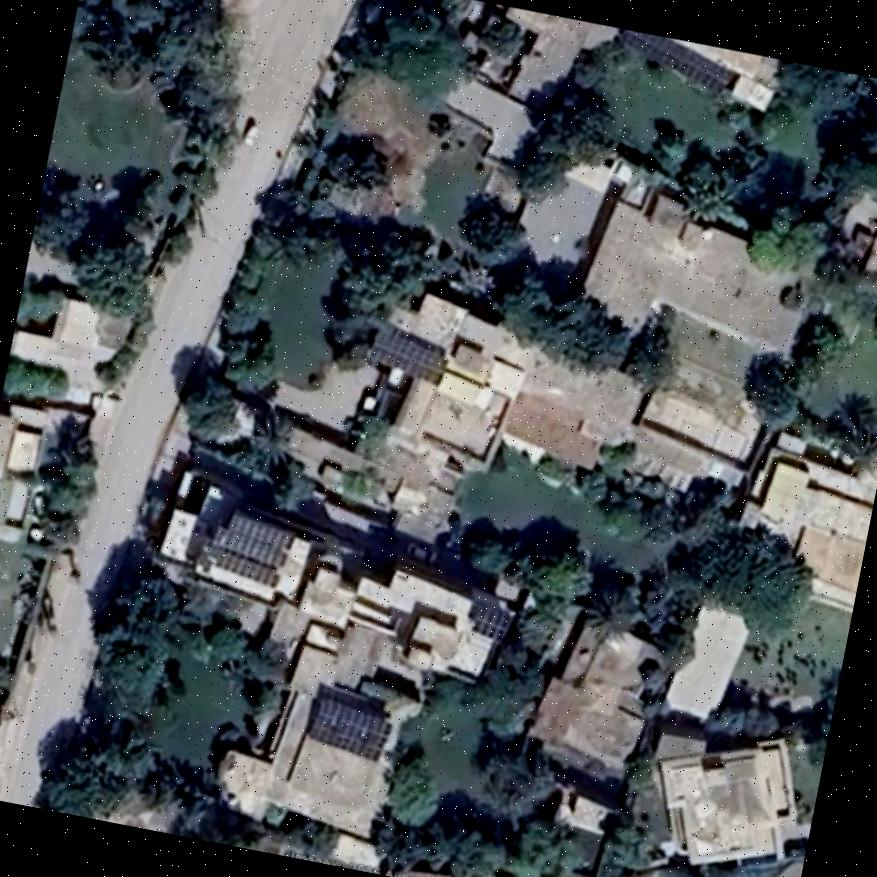Solarpanel: (613, 28, 737, 93), (307, 696, 390, 761), (365, 324, 448, 383), (216, 529, 285, 567), (228, 513, 292, 551), (215, 548, 277, 587), (472, 605, 512, 641)
